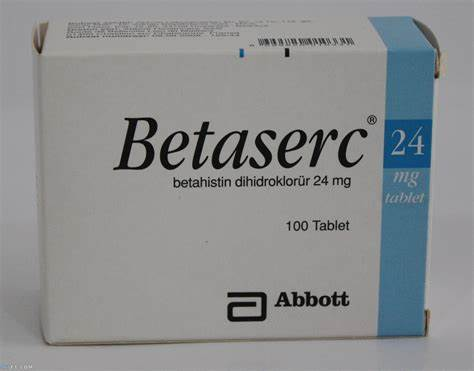Medicine: (30, 11, 439, 347)
